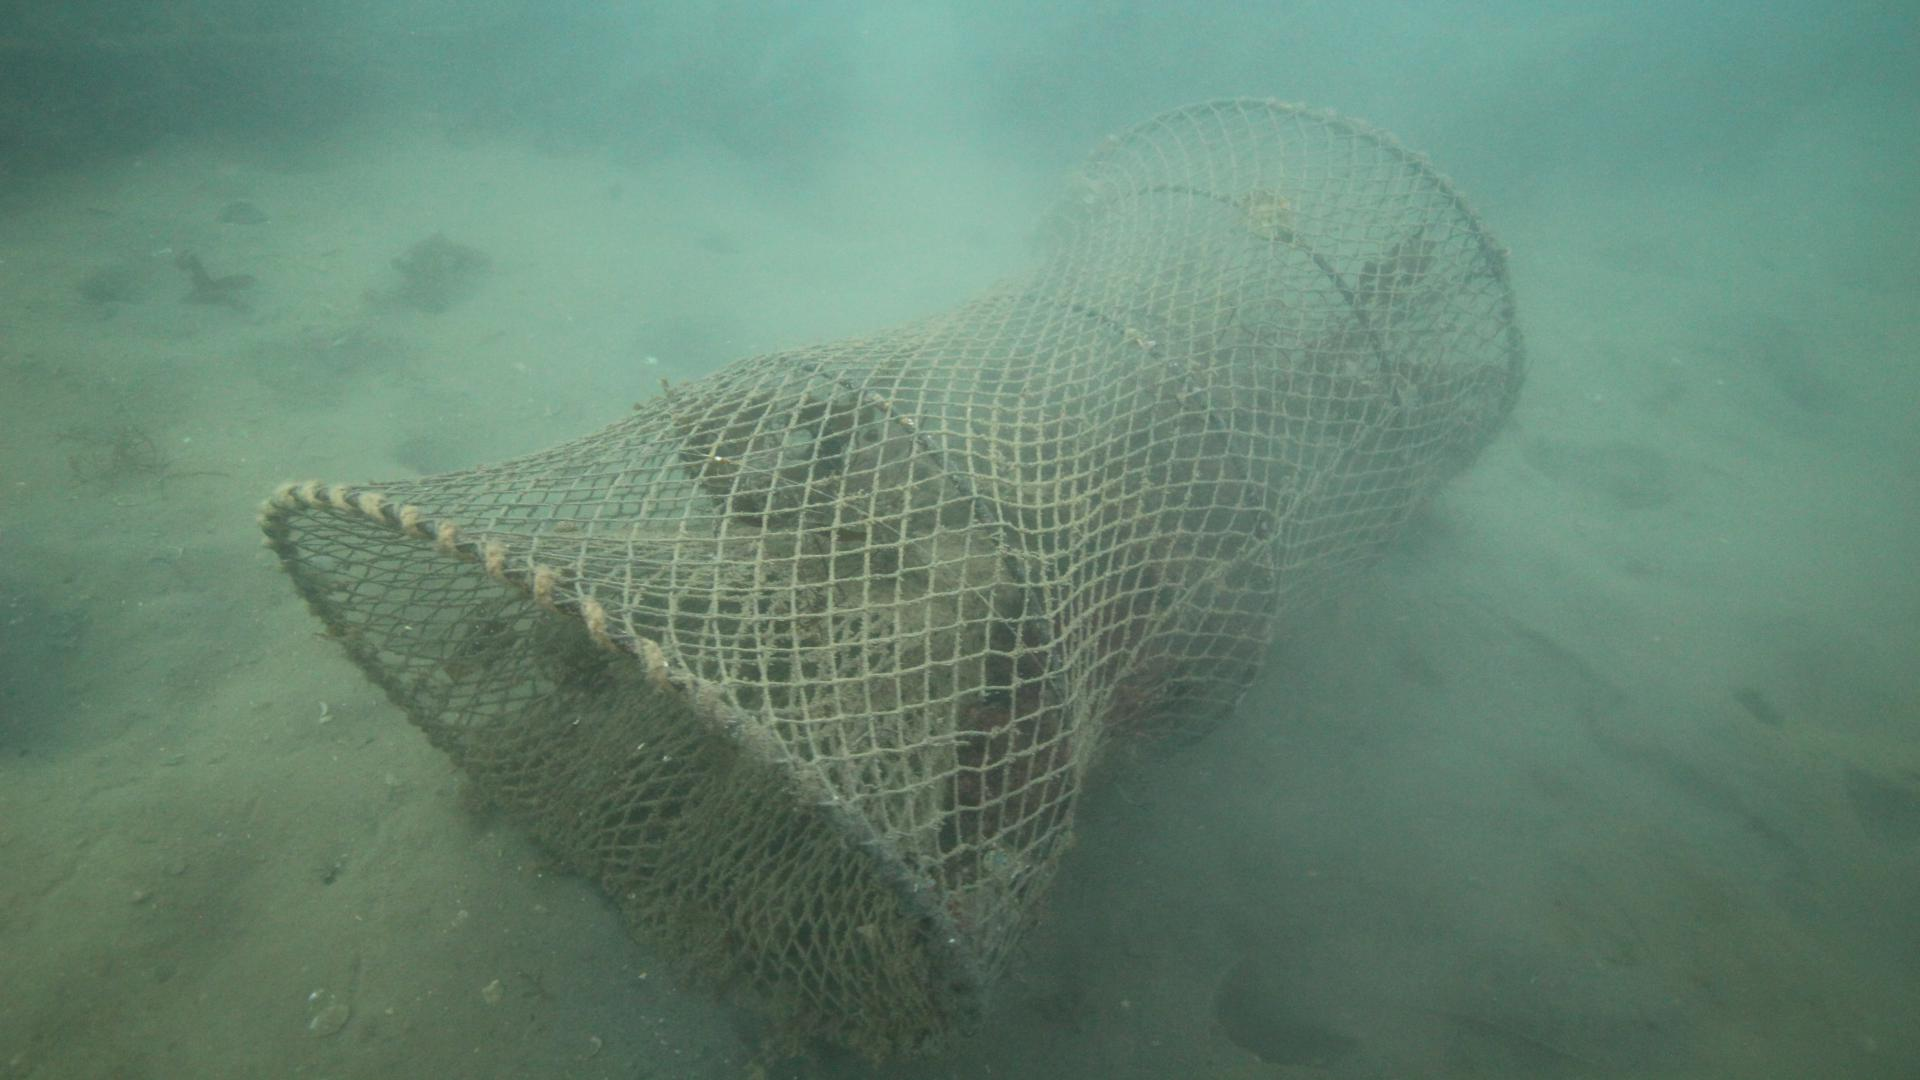spring fish trap: (255, 94, 1522, 1059)
